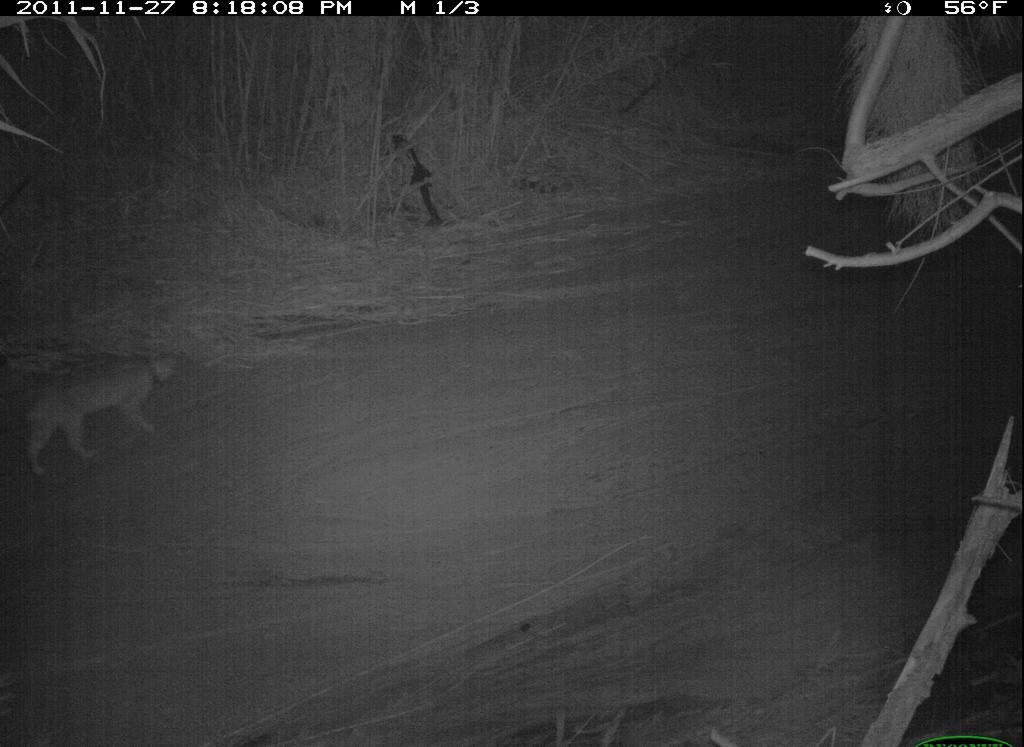bobcat: (20, 337, 196, 488)
